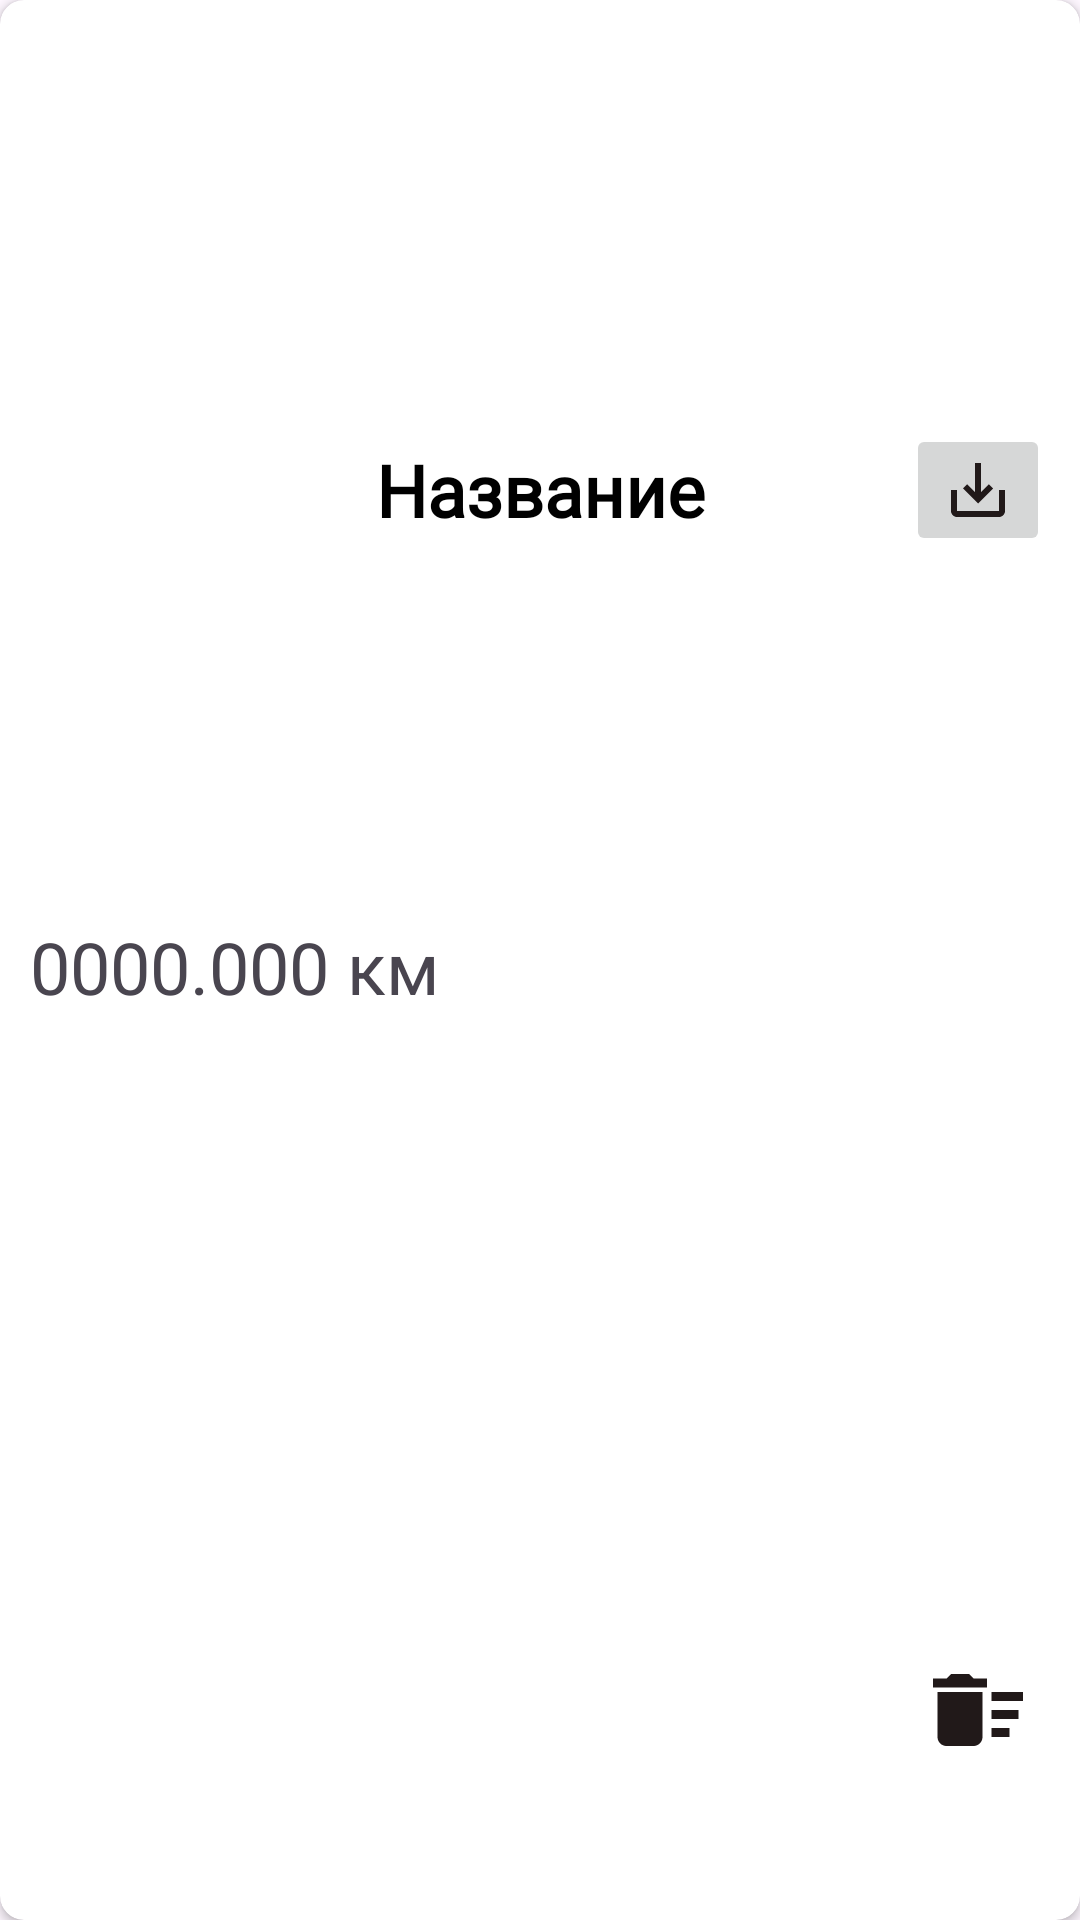

Icon bounding boxes for this 1080px×1920px phone screenshot, format (x1, y1, x2, y2):
id save track nechet: (918, 442, 1038, 538)
is delete nechet: (933, 1674, 1023, 1746)
